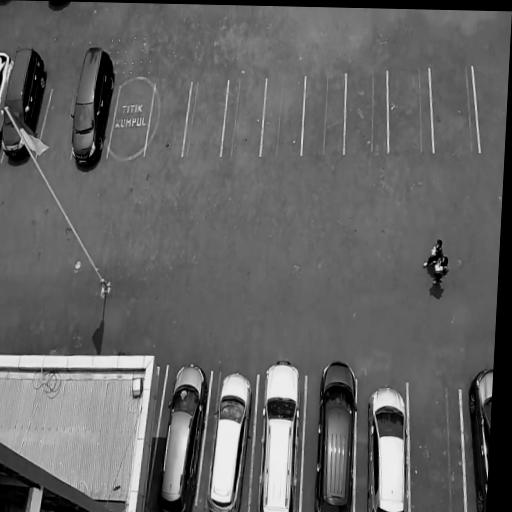Car: (155, 358, 213, 512), (256, 355, 306, 512), (203, 370, 257, 512), (311, 362, 361, 512), (361, 385, 413, 512), (0, 45, 50, 165), (71, 45, 118, 169), (468, 363, 493, 512), (0, 50, 15, 145)
Space Available: (409, 383, 465, 512), (430, 66, 479, 153), (388, 69, 433, 152), (107, 81, 156, 157), (345, 71, 388, 156), (144, 81, 191, 158), (221, 78, 266, 157), (183, 80, 229, 155), (302, 74, 345, 154), (262, 76, 305, 156), (475, 65, 509, 152), (36, 85, 77, 157)
